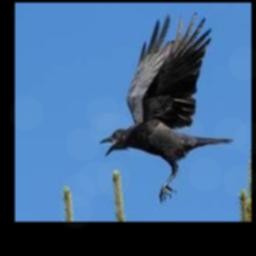Crow: (99, 15, 233, 203)
